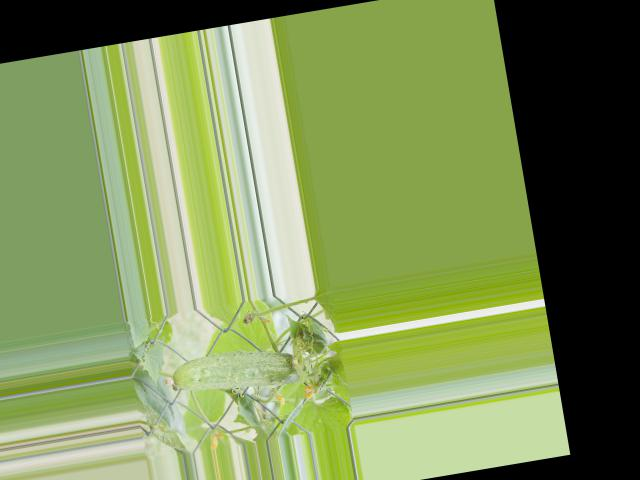cucumber: (162, 340, 307, 402)
